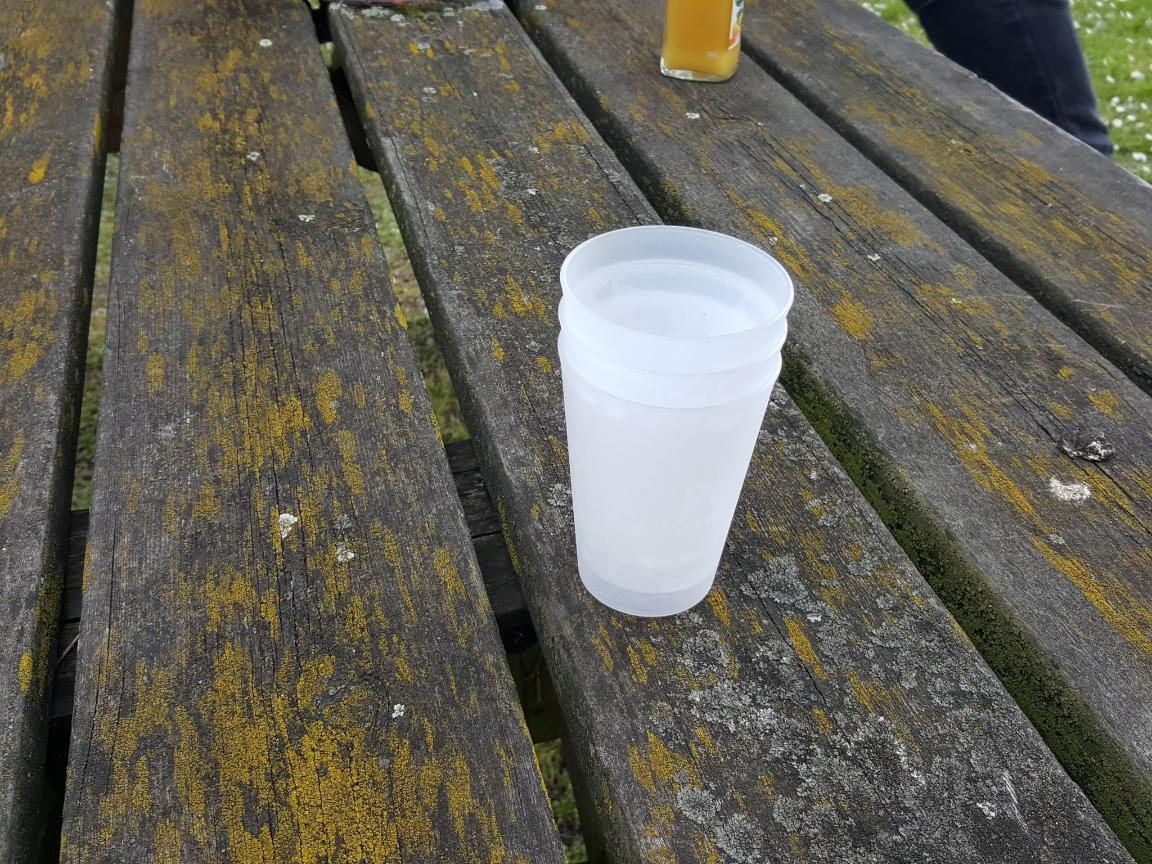ecocup: (559, 227, 794, 571), (557, 260, 787, 596), (559, 294, 784, 617)
